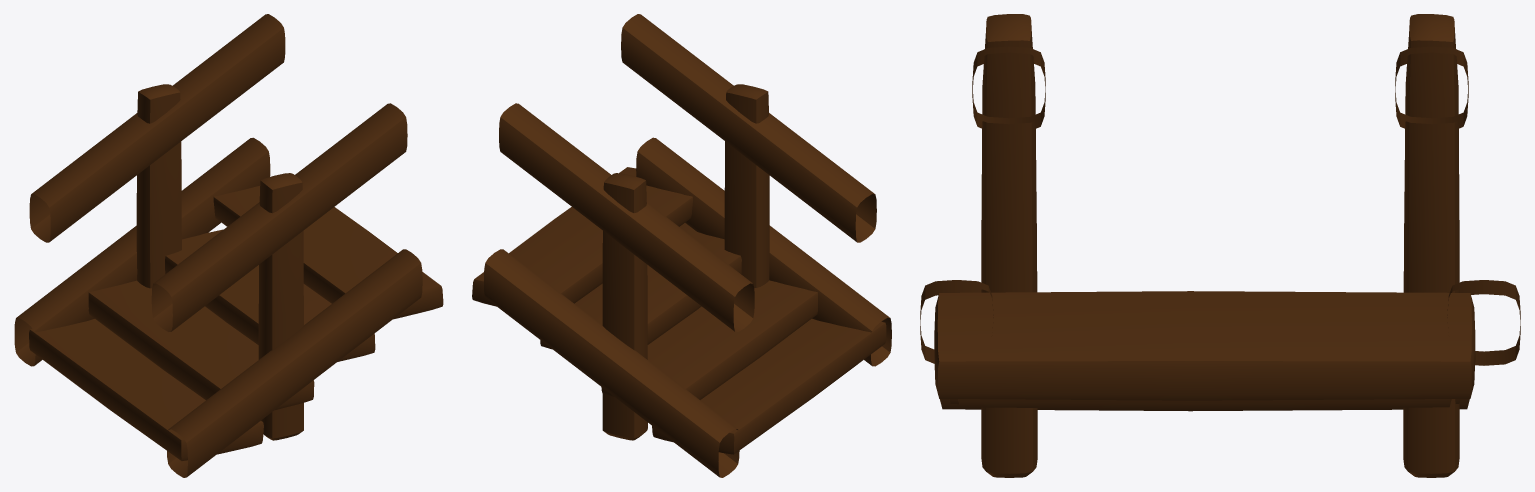
File: Stairs_Modular_Middle.fbx
3 renders of one model, left to right at view 1: azimuth 30°, elevation 25°; view 2: azimuth 150°, elevation 25°; view 3: azimuth 270°, elevation 25°, orthographic. The views are drawn at different scales.
Parts seen in each view (by area): view 1: Stairs_Modular_Middle; view 2: Stairs_Modular_Middle; view 3: Stairs_Modular_Middle.
Part boxes in pixels (<box>): Stairs_Modular_Middle: <box>14,14,443,477</box>; Stairs_Modular_Middle: <box>472,14,891,477</box>; Stairs_Modular_Middle: <box>920,14,1520,477</box>.
Size of the model in its own units: 226 by 243 by 256.
